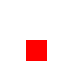square: (26, 40, 46, 60)
